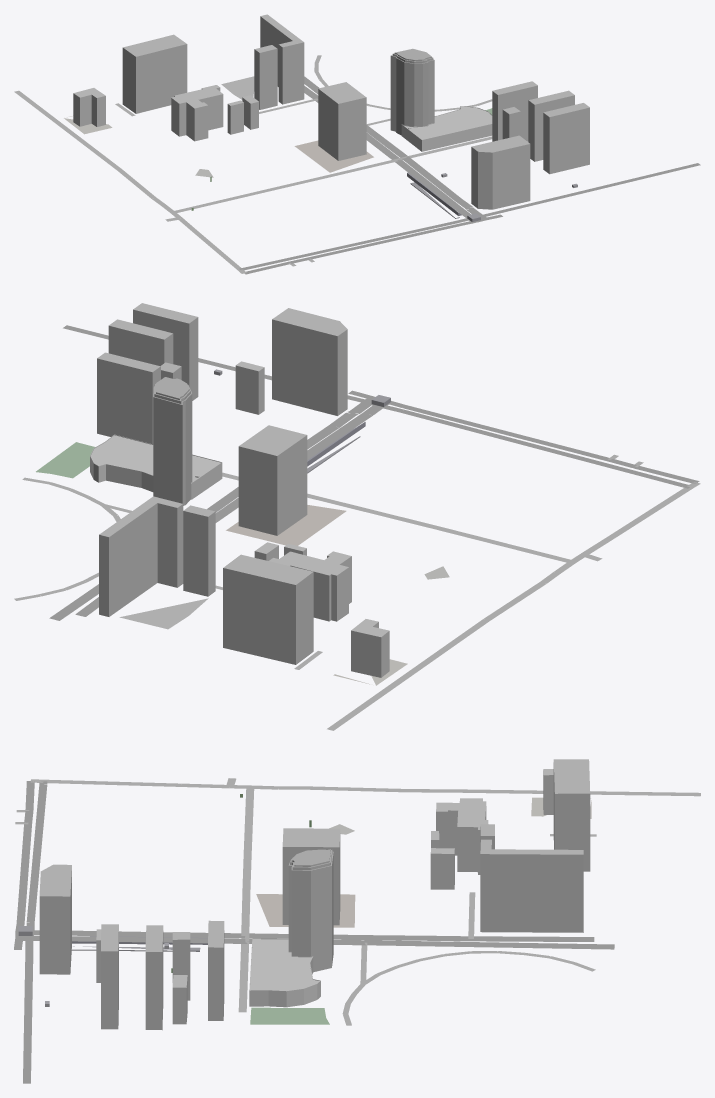
3 renders of one model, top to bottom at view 1: azimuth 30°, elevation 25°; view 2: azimuth 150°, elevation 25°; view 3: azimuth 270°, elevation 25°, orthographic. The views are drawn at different scales.
Bounding box in the file's own units: 630 × 116 × 598.
